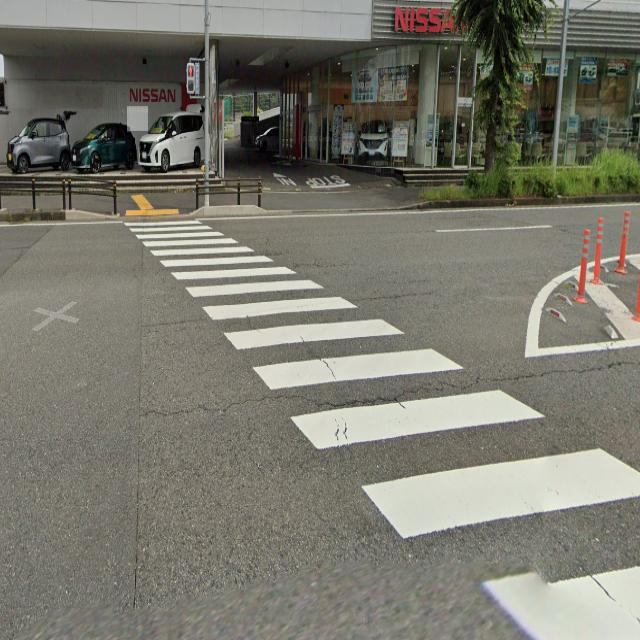traffic-light: (183, 58, 200, 97)
